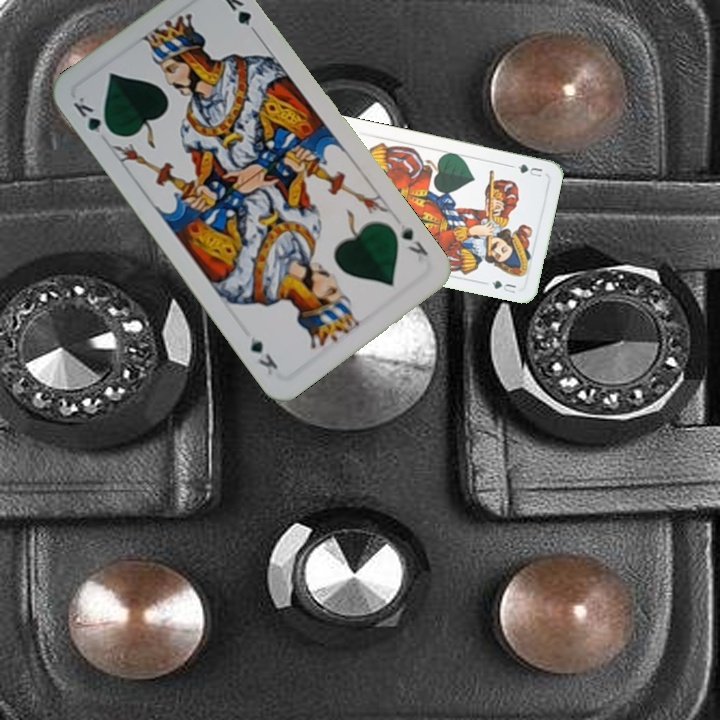GK: (69, 92, 116, 138), (396, 220, 431, 259)
GU: (514, 160, 545, 180)
